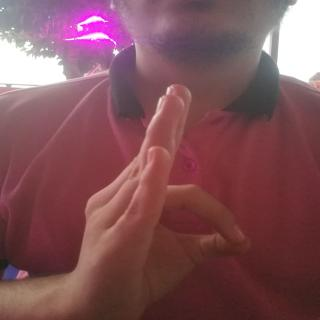Space: (78, 76, 253, 317)
